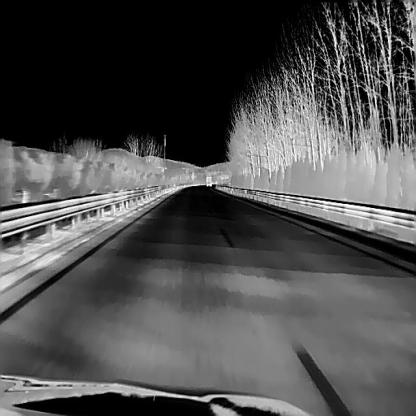truck: (205, 175, 211, 185)
